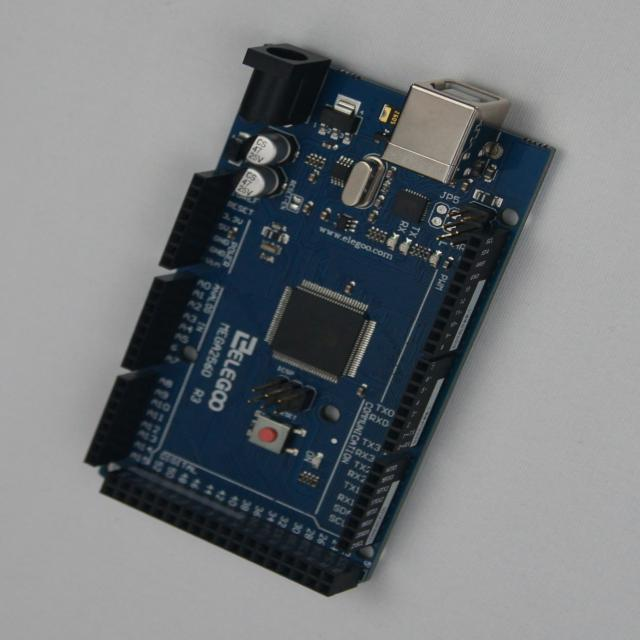Arduino Mega 2560 -Blue-: (86, 45, 553, 596)
